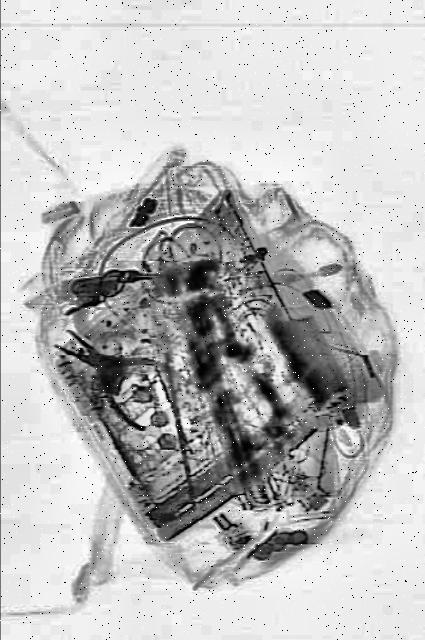Pliers: (42, 296, 188, 446)
